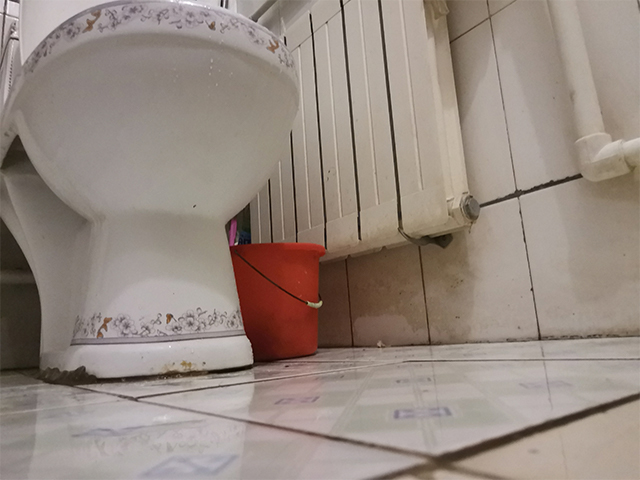closestool: (1, 1, 304, 386)
